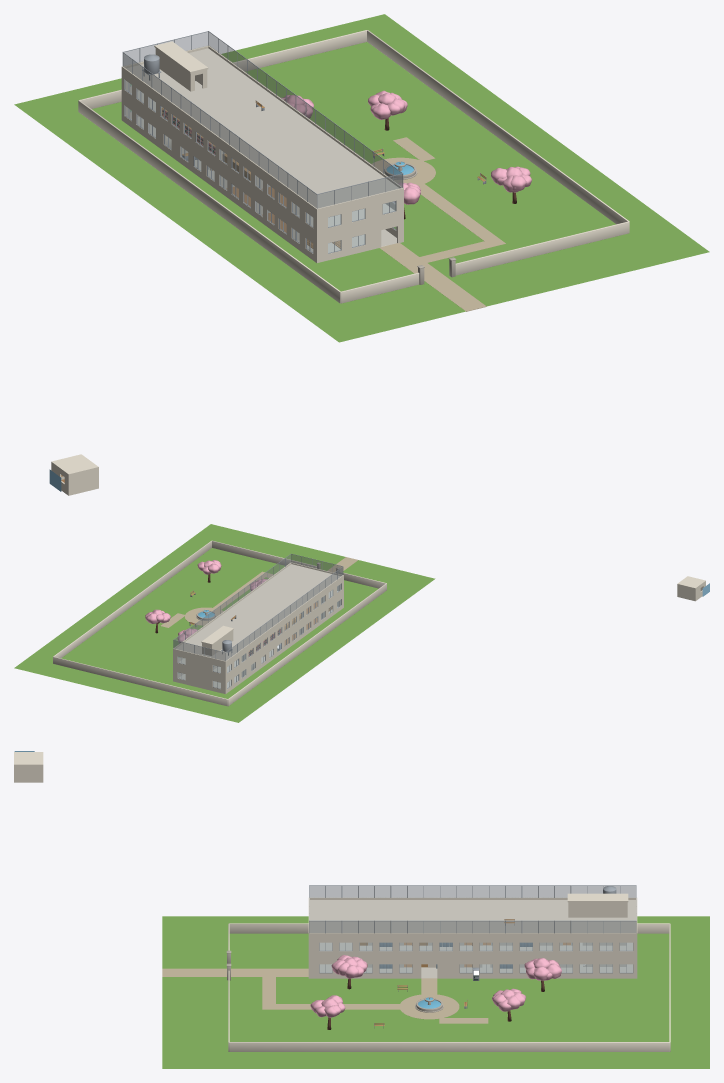
Rendered from school.glb.
3 renders of one model, top to bottom at view 1: azimuth 30°, elevation 25°; view 2: azimuth 150°, elevation 25°; view 3: azimuth 270°, elevation 25°, orthographic. The views are drawn at different scales.
Visible parts, largest first — view 1: Courtyard-col, Roof-col, SchoolWall-col, RoofFence-col, Walls1-col, Walls2-col, Windows, RoofFencePosts, ShrineRoom, Floor1-col, CherryFoliage_01, CherryFoliage_03; view 2: Courtyard-col, Roof-col, SchoolWall-col, RoofFence-col, Walls1-col, Walls2-col, Windows, RoofFencePosts, ShrineRoom; view 3: Courtyard-col, Roof-col, RoofFence-col, SchoolWall-col, Walls2-col, Walls1-col, Windows, RoofFencePosts, Floor2-col, Floor1-col, ShrineRoom, CherryFoliage_04 (+3 smaller).
Part boxes in pixels (x1=…): Courtyard-col: x1=14, y1=14, x2=709, y2=342; Roof-col: x1=121, y1=41, x2=403, y2=211; SchoolWall-col: x1=78, y1=30, x2=629, y2=303; RoofFence-col: x1=123, y1=32, x2=402, y2=208; Walls1-col: x1=121, y1=95, x2=403, y2=262; Walls2-col: x1=121, y1=69, x2=403, y2=237; Windows: x1=124, y1=79, x2=396, y2=253; RoofFencePosts: x1=122, y1=31, x2=403, y2=208; ShrineRoom: x1=51, y1=454, x2=98, y2=495; Floor1-col: x1=131, y1=117, x2=396, y2=252; CherryFoliage_01: x1=368, y1=90, x2=407, y2=119; CherryFoliage_03: x1=491, y1=166, x2=531, y2=192; Courtyard-col: x1=14, y1=524, x2=435, y2=722; Roof-col: x1=173, y1=562, x2=343, y2=662; SchoolWall-col: x1=53, y1=540, x2=386, y2=706; RoofFence-col: x1=173, y1=554, x2=342, y2=660; Walls1-col: x1=173, y1=592, x2=343, y2=694; Walls2-col: x1=173, y1=576, x2=343, y2=678; Windows: x1=177, y1=583, x2=341, y2=688; RoofFencePosts: x1=173, y1=553, x2=343, y2=660; ShrineRoom: x1=677, y1=576, x2=705, y2=601; Courtyard-col: x1=162, y1=916, x2=709, y2=1068; Roof-col: x1=308, y1=893, x2=637, y2=935; RoofFence-col: x1=309, y1=886, x2=636, y2=932; SchoolWall-col: x1=226, y1=923, x2=670, y2=1051; Walls2-col: x1=308, y1=935, x2=637, y2=956; Walls1-col: x1=308, y1=957, x2=637, y2=978; Windows: x1=319, y1=942, x2=633, y2=973; RoofFencePosts: x1=309, y1=885, x2=636, y2=933; Floor2-col: x1=319, y1=942, x2=632, y2=950; Floor1-col: x1=319, y1=964, x2=632, y2=978; ShrineRoom: x1=14, y1=752, x2=43, y2=782; CherryFoliage_04: x1=524, y1=958, x2=561, y2=980.
Bounding box in the file's own units: 107 × 10.4 × 104.
Materials: 18 (1 with a texture image).
